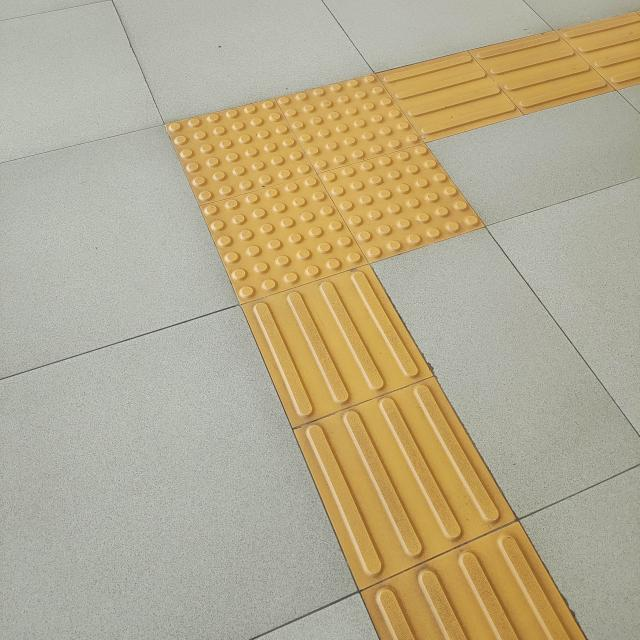kanan: (123, 0, 640, 355)
